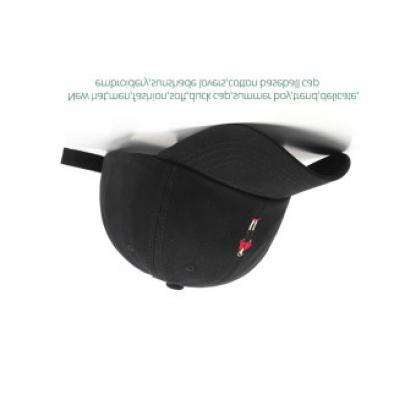cap: (73, 117, 360, 300)
